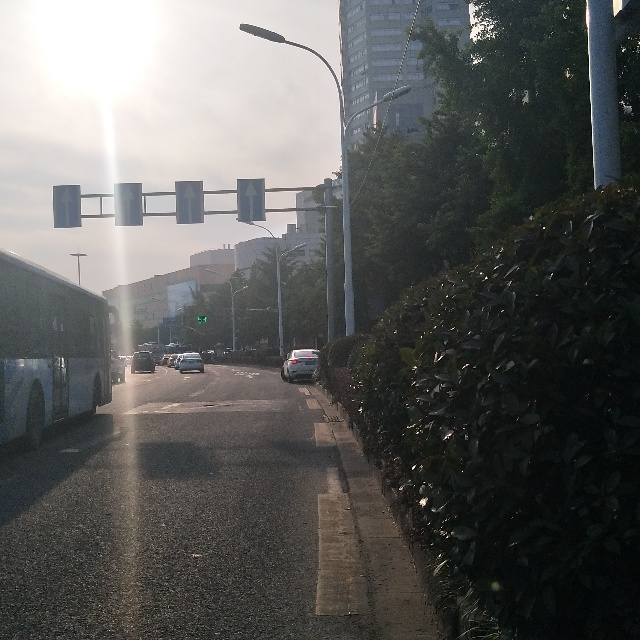straight: (54, 182, 83, 231), (175, 183, 206, 222), (113, 184, 142, 225), (237, 180, 263, 220)
